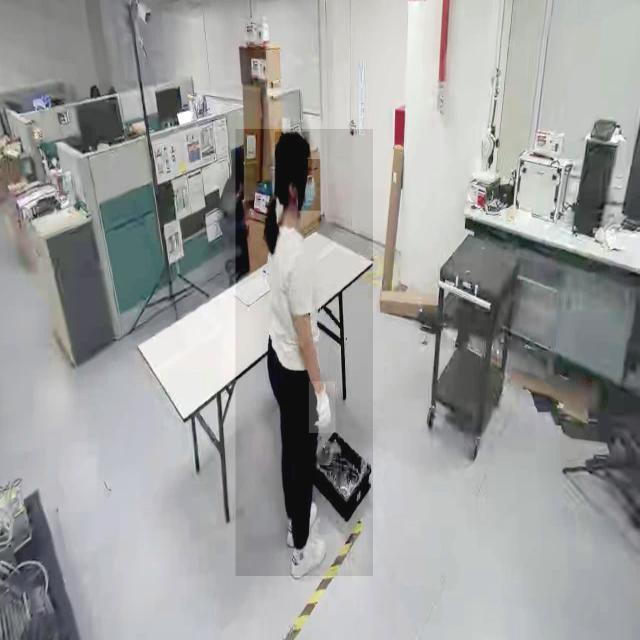face_mask: (298, 159, 320, 211)
hand_glove: (308, 381, 336, 434)
head_nohelmet: (274, 132, 310, 158)
person: (235, 129, 373, 577)
shoes: (287, 529, 329, 583), (285, 495, 317, 548)
